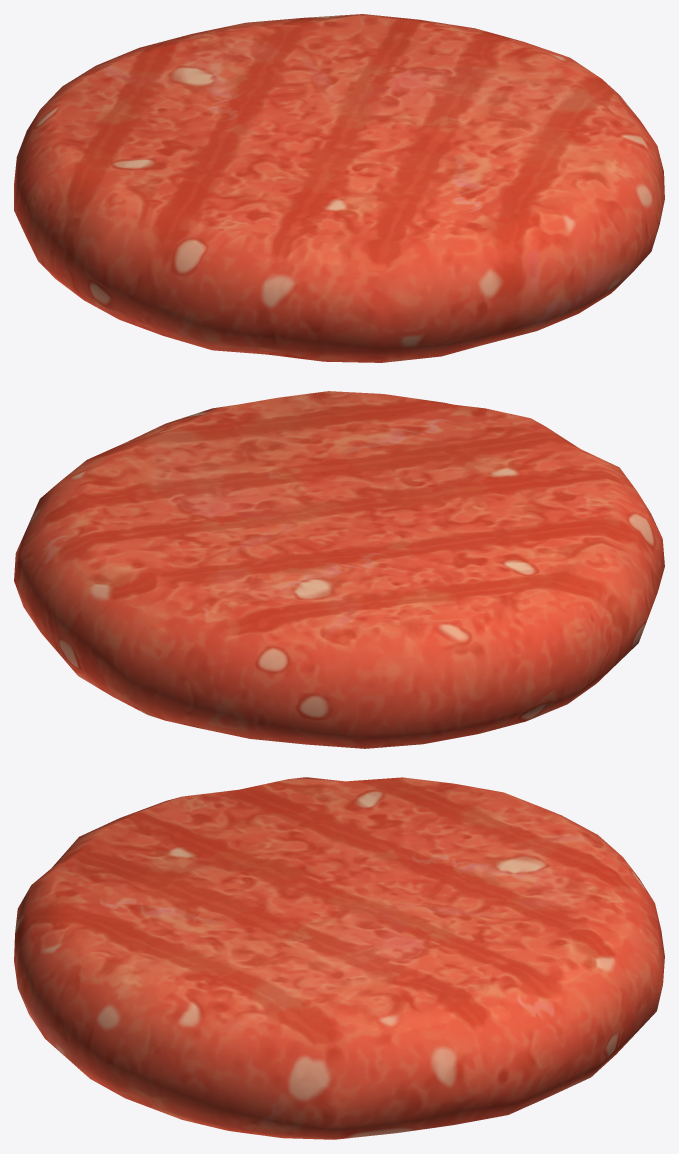
Rendered from SM_BurgerPattyRaw.glb.
3 renders of one model, top to bottom at view 1: azimuth 30°, elevation 25°; view 2: azimuth 150°, elevation 25°; view 3: azimuth 270°, elevation 25°, orthographic.
Visible parts, largest first — view 1: SM_BurgerPattyRaw; view 2: SM_BurgerPattyRaw; view 3: SM_BurgerPattyRaw.
Part boxes in pixels (x1=…): SM_BurgerPattyRaw: x1=14, y1=14, x2=664, y2=362; SM_BurgerPattyRaw: x1=14, y1=391, x2=664, y2=748; SM_BurgerPattyRaw: x1=14, y1=777, x2=664, y2=1139.
Size of the model in its own units: 0.1748 by 0.0362 by 0.1719.
Materials: 1 (1 with a texture image).
